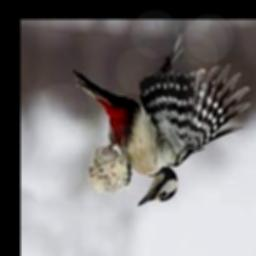Woodpecker: (72, 34, 251, 206)
